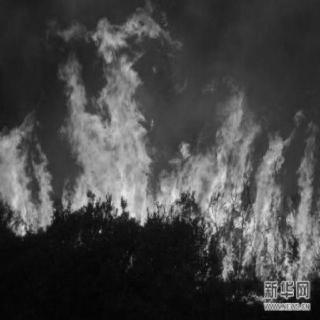Fire: (175, 71, 317, 283), (1, 112, 57, 236)
Smoke: (184, 6, 314, 66), (5, 5, 44, 101), (151, 84, 201, 136)
